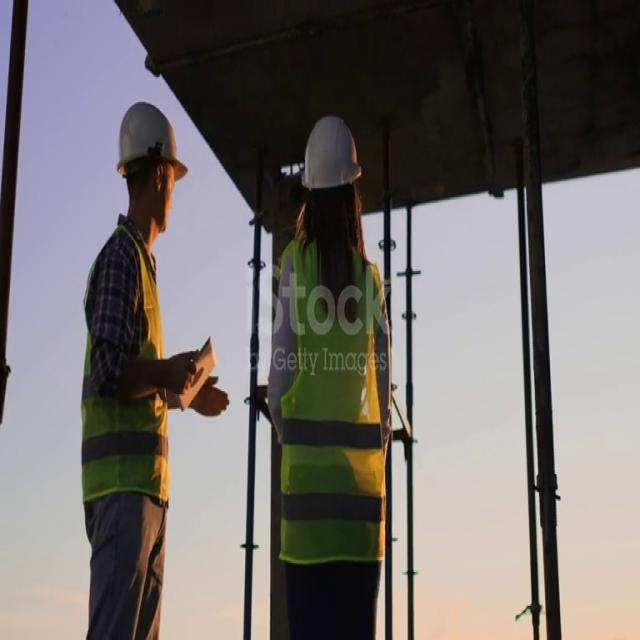capacete: (290, 110, 369, 200), (116, 96, 193, 186)
